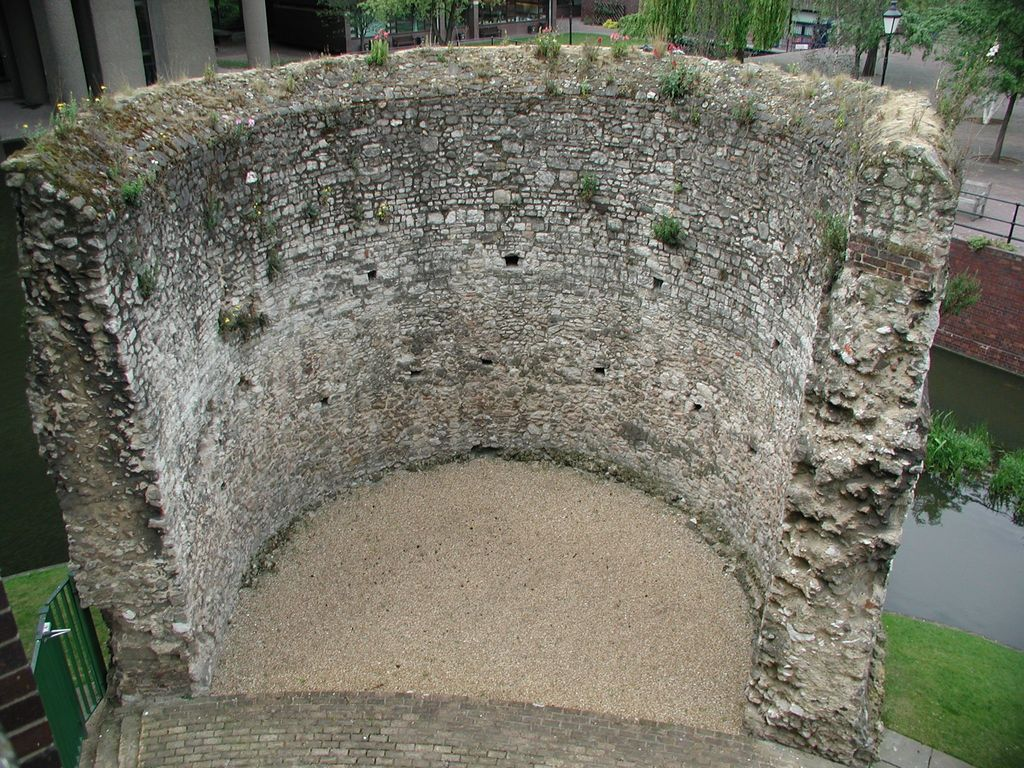Tree: (899, 0, 1023, 169), (612, 0, 796, 66), (805, 0, 929, 80), (308, 0, 483, 50)
